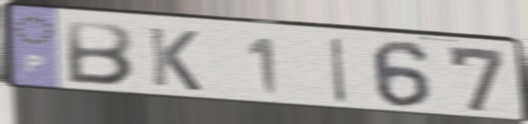1: (246, 36, 279, 95)
6: (369, 39, 433, 111)
7: (444, 43, 508, 115)
B: (63, 18, 136, 88)
I: (329, 35, 349, 105)
K: (145, 24, 205, 94)
